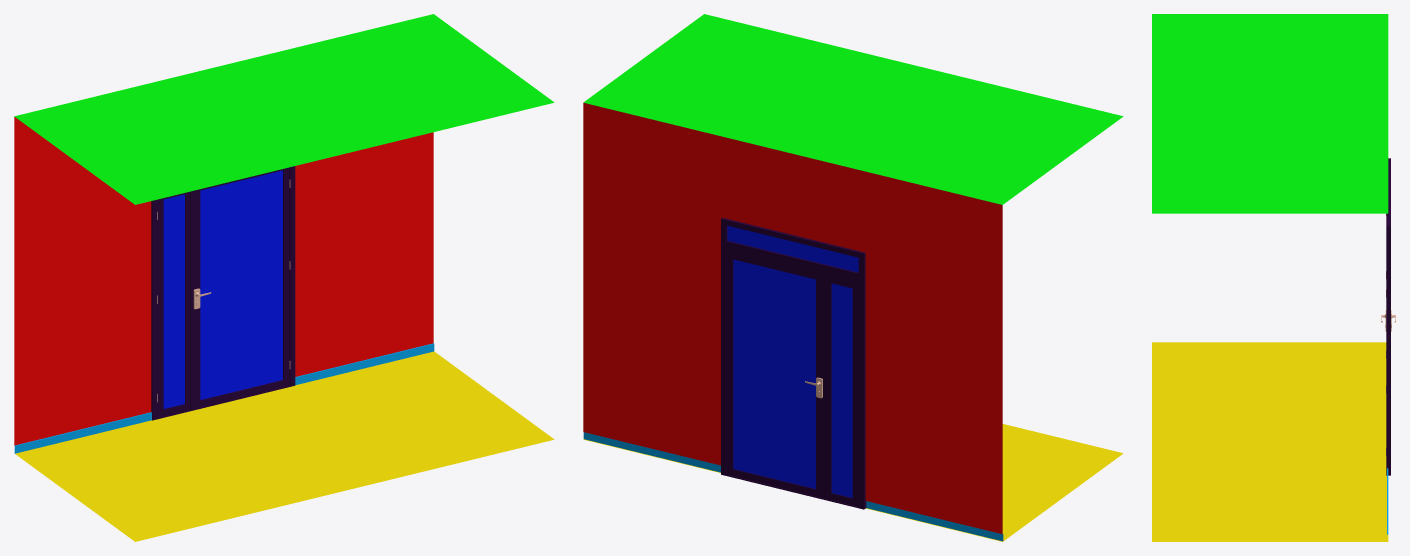
Rendered from SM_Door_Frame_C.FBX.
3 views of the same model, side by side, from view 1: azimuth 30°, elevation 25°; view 2: azimuth 150°, elevation 25°; view 3: azimuth 270°, elevation 25° (orthographic). The views are drawn at different scales.
Visible parts, largest first — view 1: SM_Door_Frame_C, SM_Door_R_Glass_C, SM_Door_R_C, SM_Door_L_Glass_C, SM_Door_L_C; view 2: SM_Door_Frame_C, SM_Door_R_Glass_C, SM_Door_R_C, SM_Door_L_Glass_C, SM_Door_L_C, SM_Glass_C; view 3: SM_Door_Frame_C.
Part boxes in pixels (left/top/right/bottom): SM_Door_Frame_C: left=14, top=14, right=554, bottom=541; SM_Door_R_Glass_C: left=200, top=170, right=282, bottom=399; SM_Door_R_C: left=190, top=167, right=290, bottom=409; SM_Door_L_Glass_C: left=163, top=194, right=184, bottom=408; SM_Door_L_C: left=157, top=191, right=189, bottom=417; SM_Door_Frame_C: left=583, top=14, right=1123, bottom=541; SM_Door_R_Glass_C: left=733, top=259, right=815, bottom=488; SM_Door_R_C: left=726, top=251, right=824, bottom=498; SM_Door_L_Glass_C: left=831, top=283, right=852, bottom=497; SM_Door_L_C: left=824, top=275, right=858, bottom=506; SM_Glass_C: left=727, top=225, right=858, bottom=272; SM_Door_Frame_C: left=1152, top=14, right=1390, bottom=541.
Size of the model in its own units: 4 by 3.07 by 2.07.
